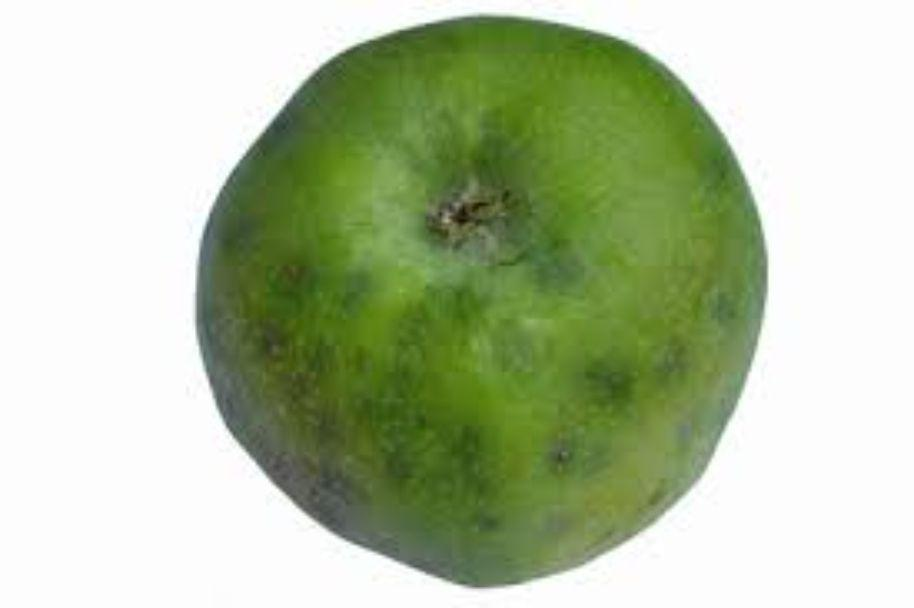BLOTCH: (149, 14, 826, 608)
